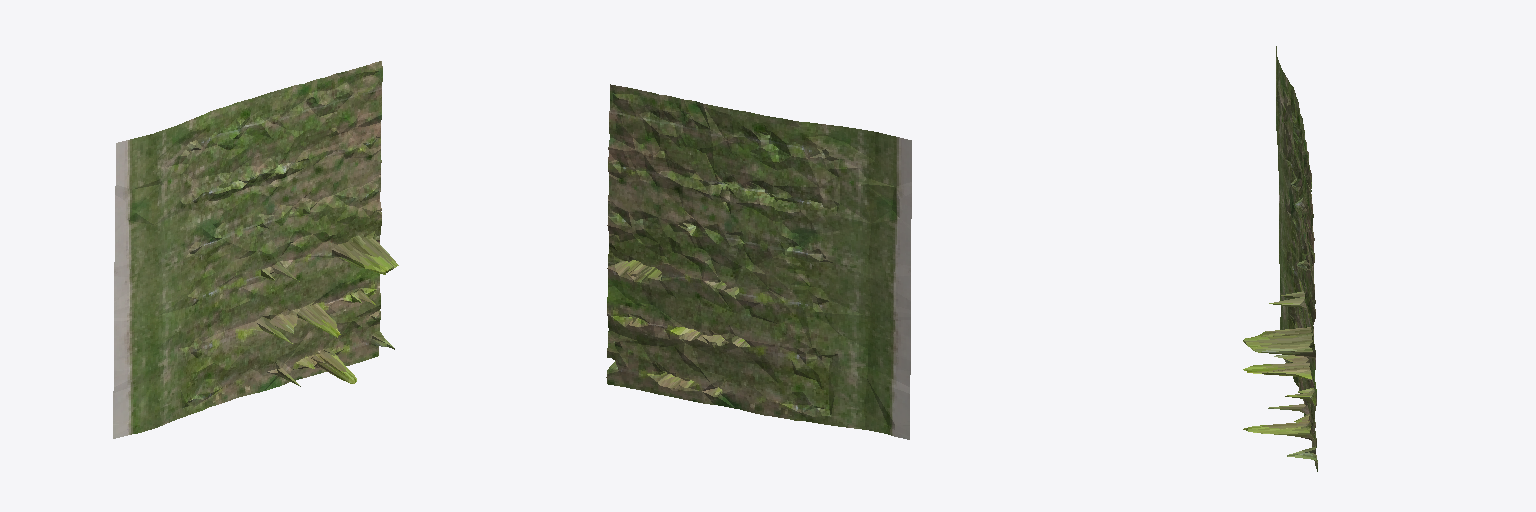
The picture shows the model from 3 angles: view 1: azimuth 30°, elevation 25°; view 2: azimuth 150°, elevation 25°; view 3: azimuth 270°, elevation 25°; orthographic projection.
Parts seen in each view (by area): view 1: grp1; view 2: grp1; view 3: grp1.
Boxes of the visible parts, x1=… form: grp1: x1=113, y1=61, x2=398, y2=438; grp1: x1=606, y1=84, x2=911, y2=439; grp1: x1=1243, y1=46, x2=1317, y2=471.
Size of the model in its own units: 10 by 10 by 2.34.
Materials: 1 (1 with a texture image).